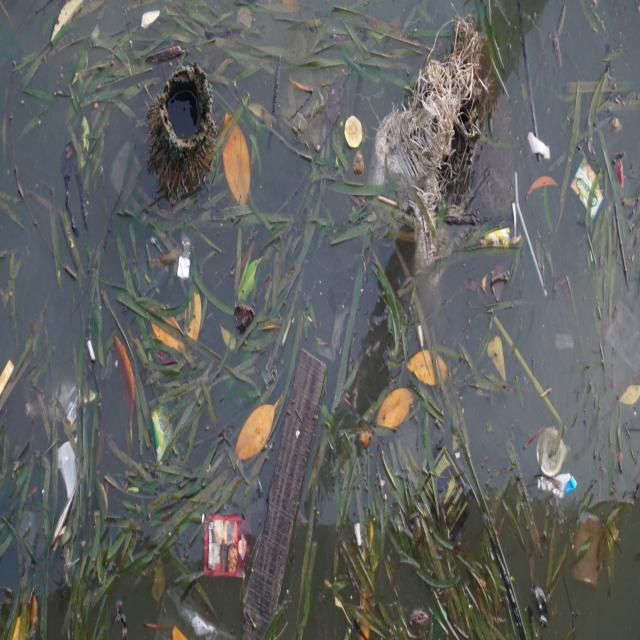Bungkus Makanan: (203, 510, 251, 584), (570, 155, 606, 221), (482, 229, 514, 255)
Bungkus Minuman: (419, 437, 475, 540)
Kantong Plastik: (154, 583, 237, 640)
